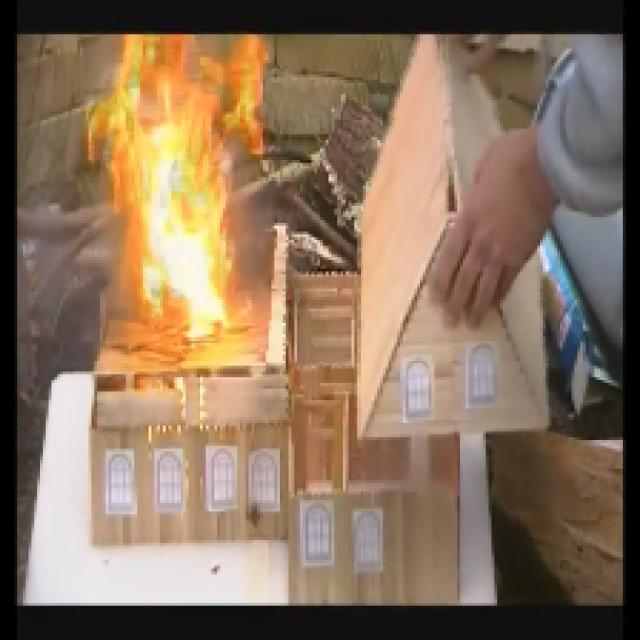fire: (87, 34, 255, 356)
